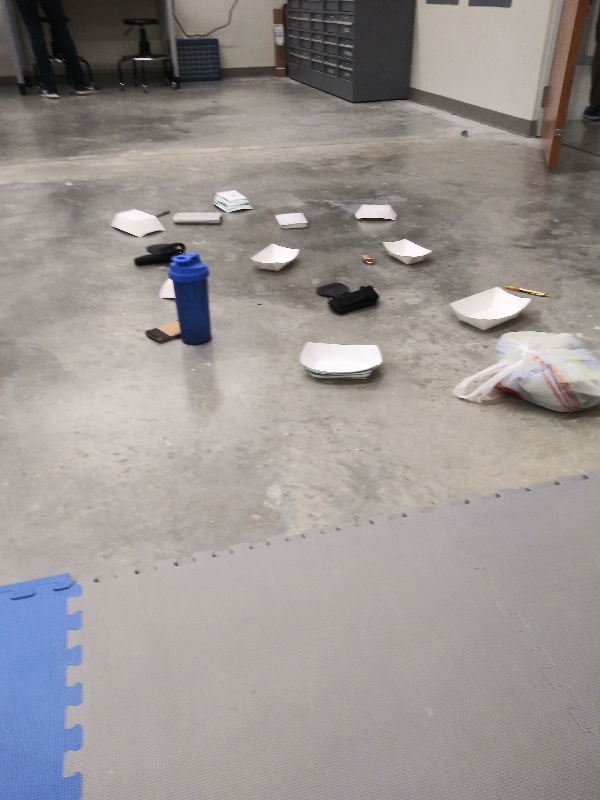plate: (294, 336, 390, 387), (447, 283, 533, 334), (248, 242, 306, 278), (379, 235, 437, 269), (106, 206, 167, 237), (207, 186, 258, 216), (350, 200, 402, 224), (153, 276, 176, 306)
